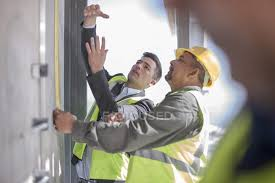helmet: (189, 42, 224, 84)
vest: (144, 93, 207, 182), (85, 88, 139, 177)
